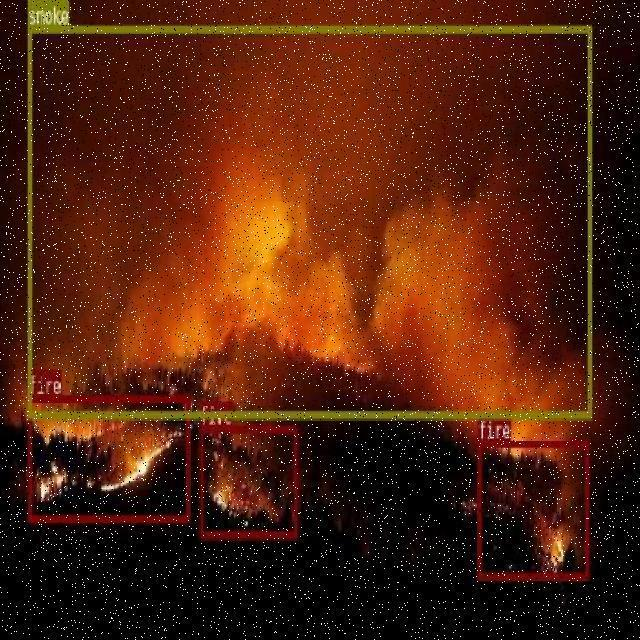Smoke: (26, 24, 590, 417)
